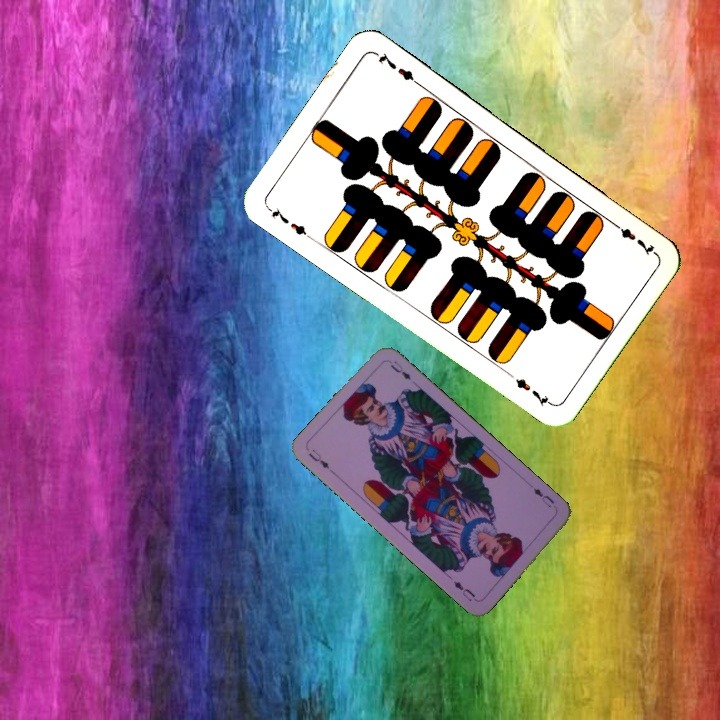E7: (607, 217, 658, 258), (263, 203, 315, 243)
EU: (304, 445, 332, 472), (529, 484, 557, 510)
